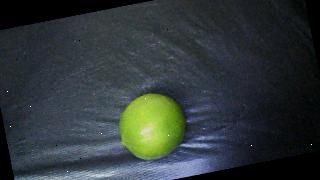LOCAL: (114, 88, 192, 165)
